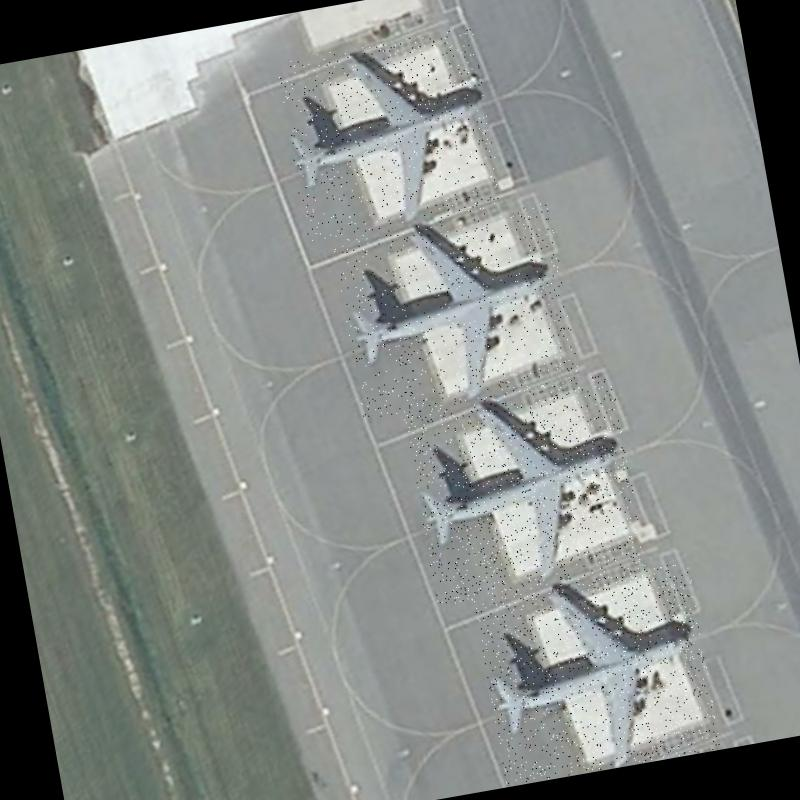A4: (403, 372, 647, 606), (473, 560, 722, 786), (332, 203, 581, 420), (275, 27, 504, 242)
